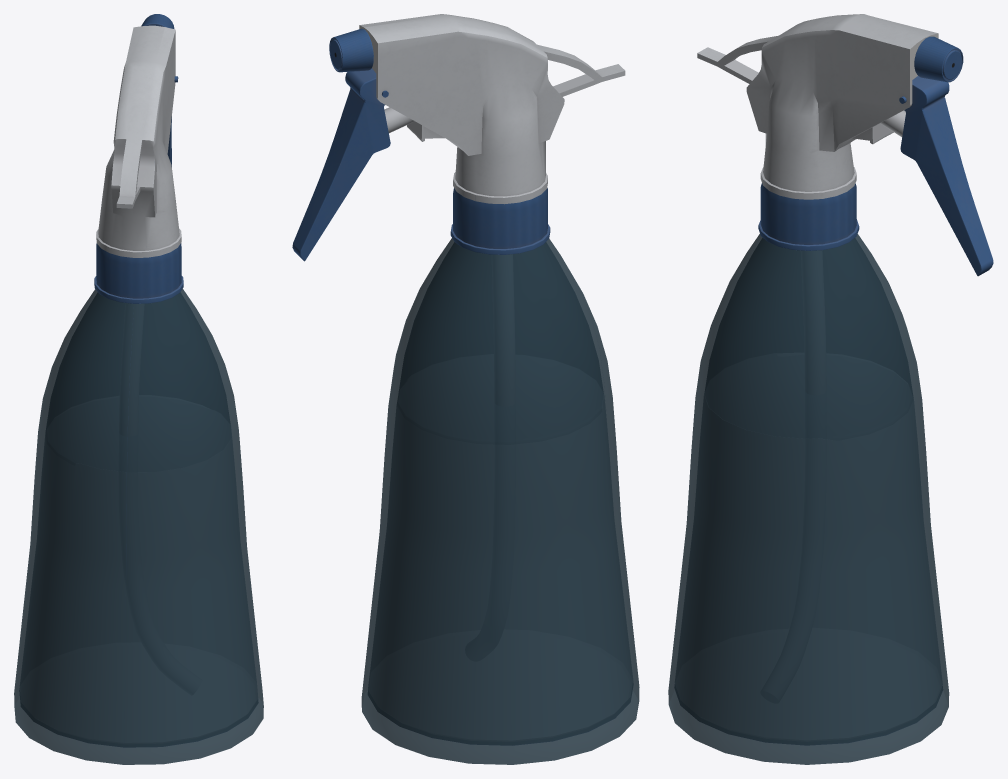
The picture shows the model from 3 angles, left to right: view 1: azimuth 30°, elevation 25°; view 2: azimuth 150°, elevation 25°; view 3: azimuth 270°, elevation 25°; orthographic projection. The views are drawn at different scales.
Visible parts, largest first — view 1: smWaterbottle_bottle, smWaterbottle_water, smWaterbottle_spray; view 2: smWaterbottle_bottle, smWaterbottle_water, smWaterbottle_spray; view 3: smWaterbottle_bottle, smWaterbottle_water, smWaterbottle_spray.
Boxes of the visible parts, x1,y1,x2,y2 form: smWaterbottle_bottle: (14, 243, 263, 764); smWaterbottle_water: (20, 433, 257, 742); smWaterbottle_spray: (96, 14, 181, 435); smWaterbottle_bottle: (361, 188, 639, 764); smWaterbottle_water: (368, 396, 632, 740); smWaterbottle_spray: (292, 14, 625, 405); smWaterbottle_bottle: (668, 183, 949, 764); smWaterbottle_water: (675, 394, 942, 740); smWaterbottle_spray: (697, 14, 993, 394).
Size of the model in its own units: 0.8876 by 2.45 by 1.02.
Materials: 2 (2 with a texture image).
